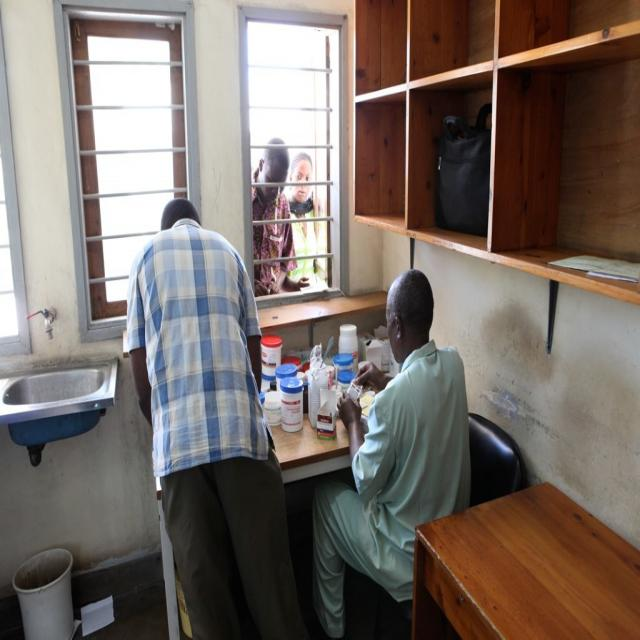chair: (467, 411, 529, 509)
desk: (391, 468, 619, 640)
person: (124, 192, 304, 632), (312, 263, 471, 638), (252, 135, 302, 294), (284, 149, 318, 285)
